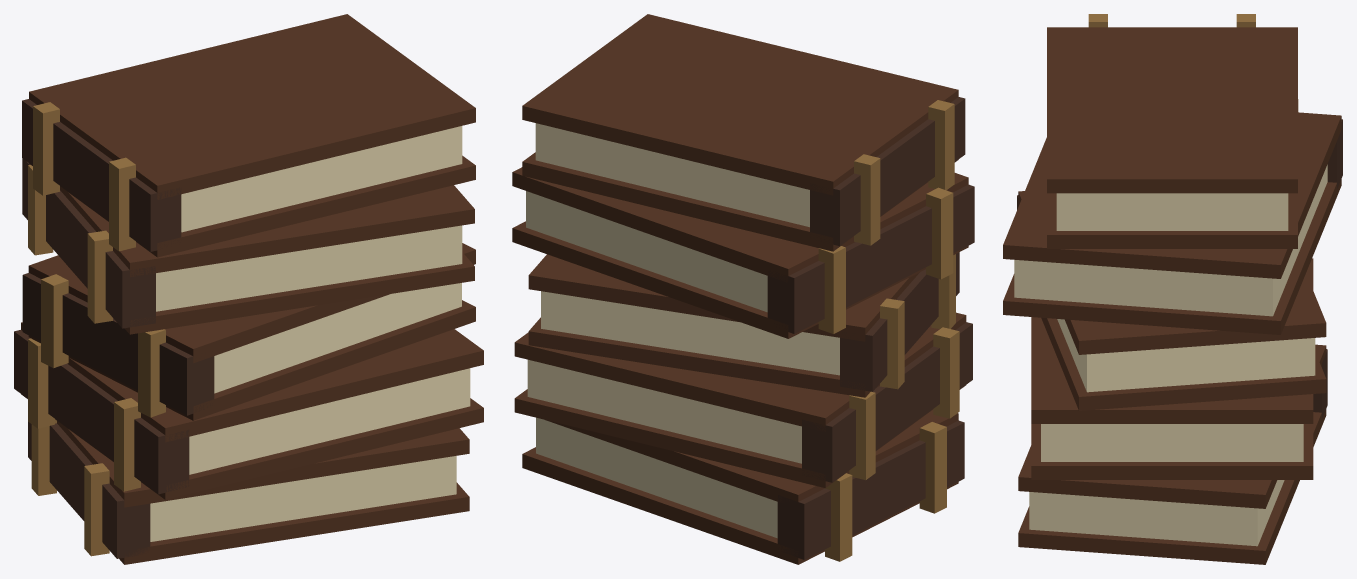
Rendered from Books__Pile.fbx.
3 views of the same model, side by side, from view 1: azimuth 30°, elevation 25°; view 2: azimuth 150°, elevation 25°; view 3: azimuth 270°, elevation 25° (orthographic). The views are drawn at different scales.
Parts seen in each view (by area): view 1: Books__Pile; view 2: Books__Pile; view 3: Books__Pile.
Part boxes in pixels (box(x1,y1,x2,y2)): Books__Pile: box(14, 14, 483, 564); Books__Pile: box(512, 14, 974, 564); Books__Pile: box(1003, 14, 1342, 564).
Bounding box in the file's own units: 53.43 × 55.5 × 44.01.
Materials: 1 (1 with a texture image).
